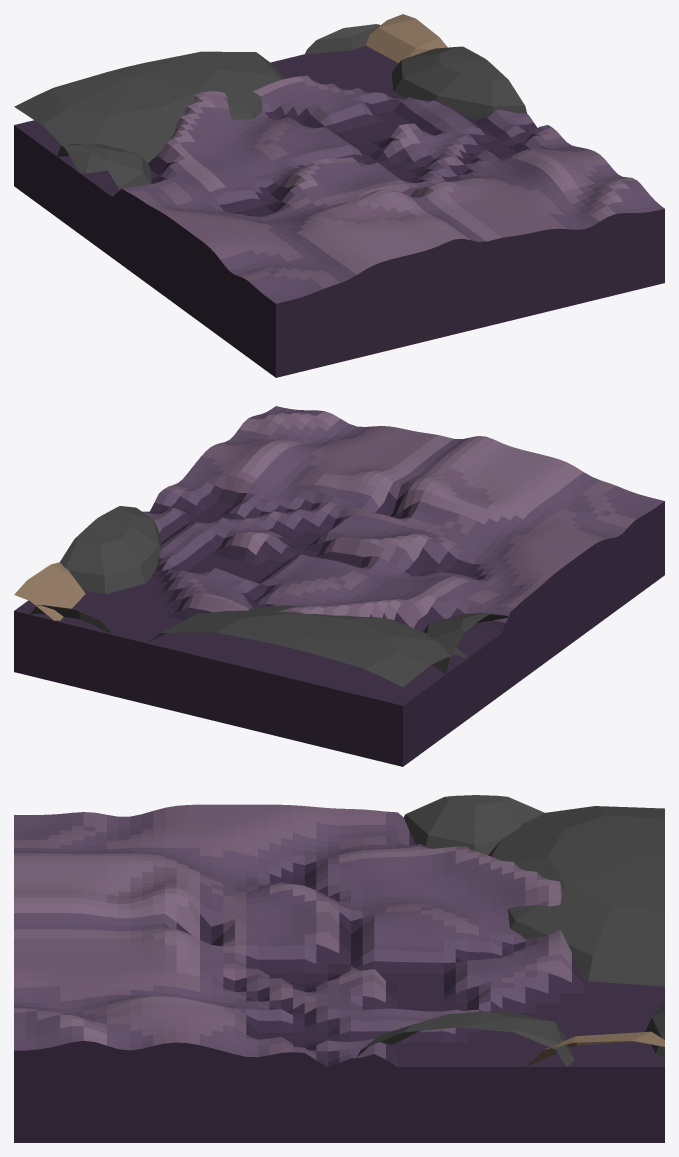
The picture shows the model from 3 angles, top to bottom: view 1: azimuth 30°, elevation 25°; view 2: azimuth 150°, elevation 25°; view 3: azimuth 270°, elevation 25°; orthographic projection. The views are drawn at different scales.
Parts seen in each view (by area): view 1: shapesz-t156; view 2: shapesz-t156; view 3: shapesz-t156.
Boxes of the visible parts, left/top/right/bottom form: shapesz-t156: left=14, top=14, right=664, bottom=377; shapesz-t156: left=14, top=406, right=664, bottom=766; shapesz-t156: left=14, top=795, right=664, bottom=1142.
Size of the model in its own units: 2 by 0.4827 by 2.33.
